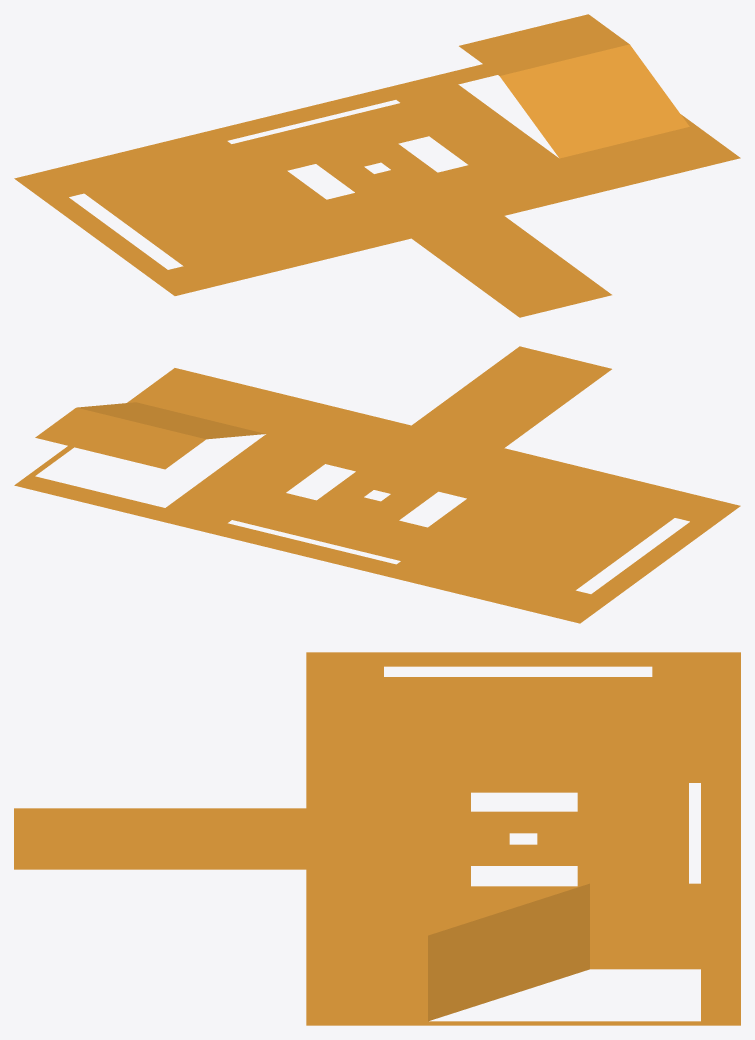
File: test_nav_mesh.glb
3 views of the same model, one above another, from view 1: azimuth 30°, elevation 25°; view 2: azimuth 150°, elevation 25°; view 3: azimuth 270°, elevation 25° (orthographic). The views are drawn at different scales.
Visible parts, largest first — view 1: Cube.001; view 2: Cube.001; view 3: Cube.001.
Part boxes in pixels (x1,y1,x2,y2): Cube.001: [14, 14, 740, 317]; Cube.001: [14, 346, 740, 623]; Cube.001: [14, 652, 740, 1025].
Bounding box in the file's own units: 21.45 × 1.4 × 17.66.
